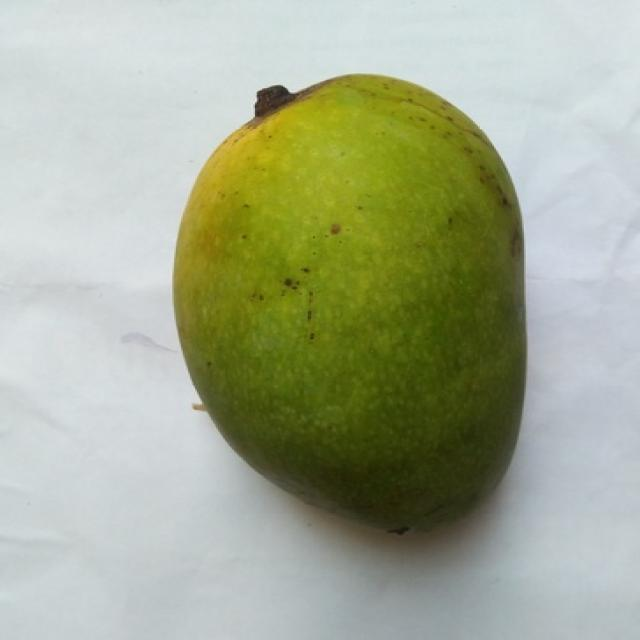Mango: (174, 76, 524, 533)
